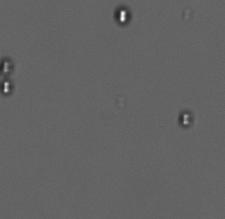Living Cell: (113, 4, 132, 25), (178, 109, 195, 129), (1, 57, 14, 76), (1, 79, 13, 97)
